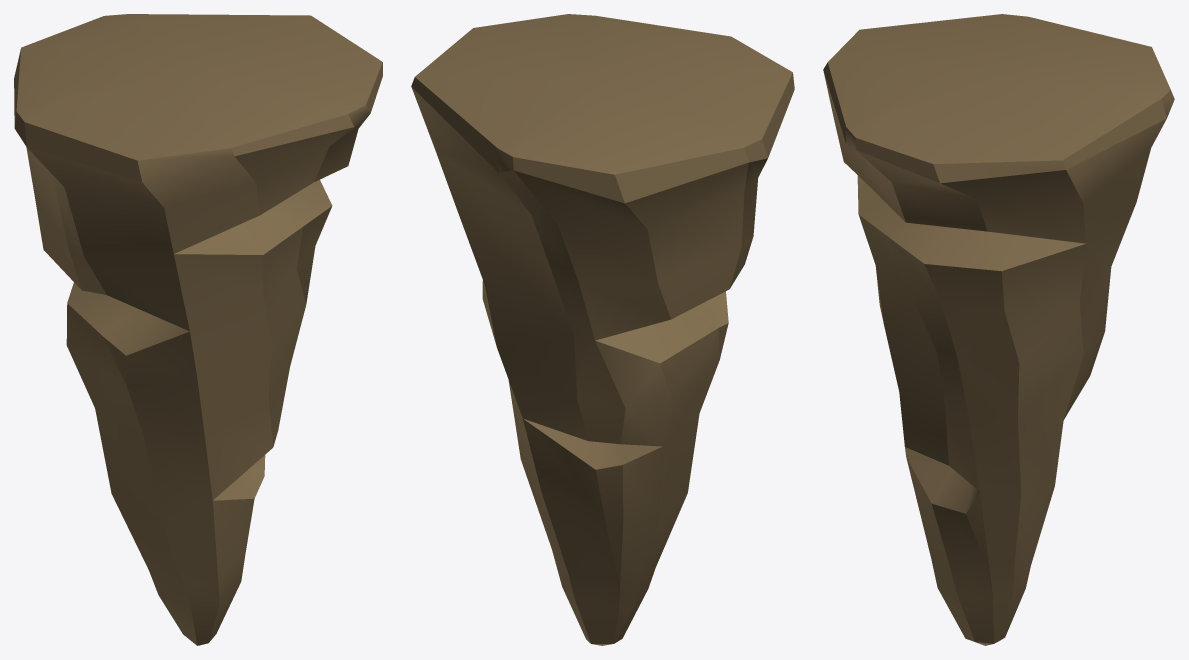
File: LightRockDecorationMediumStalactite1.fbx
The picture shows the model from 3 angles, left to right: view 1: azimuth 30°, elevation 25°; view 2: azimuth 150°, elevation 25°; view 3: azimuth 270°, elevation 25°; orthographic projection.
Parts seen in each view (by area): view 1: LightRockDecorationMediumStalactite1; view 2: LightRockDecorationMediumStalactite1; view 3: LightRockDecorationMediumStalactite1.
Part boxes in pixels (x1,y1,x2,y2): LightRockDecorationMediumStalactite1: [14, 14, 382, 645]; LightRockDecorationMediumStalactite1: [411, 14, 794, 645]; LightRockDecorationMediumStalactite1: [823, 14, 1174, 645].
Size of the model in its own units: 400 by 661 by 373.
